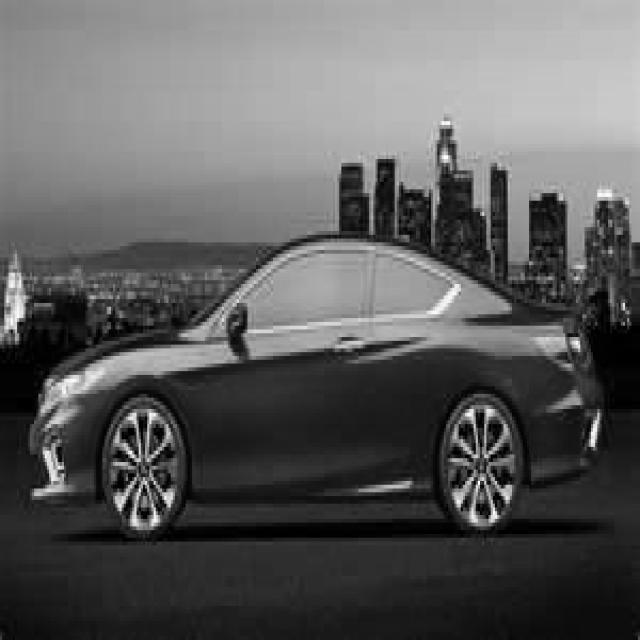car: (26, 227, 610, 538)
